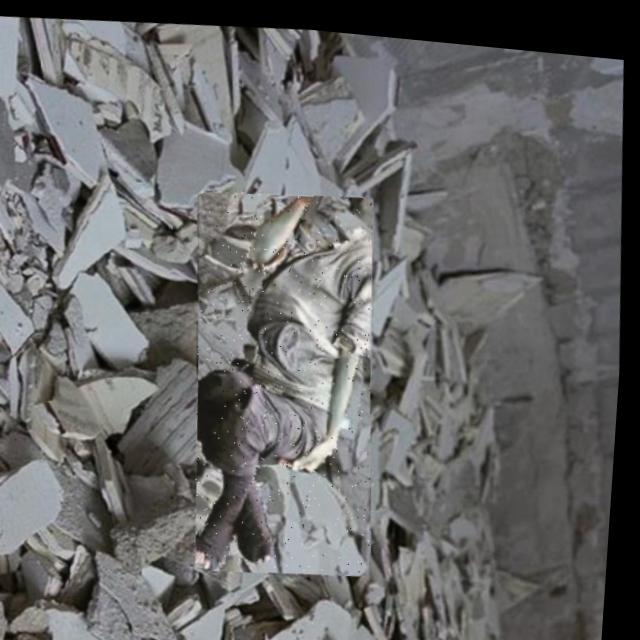Person in Rubble: (181, 177, 396, 579)
